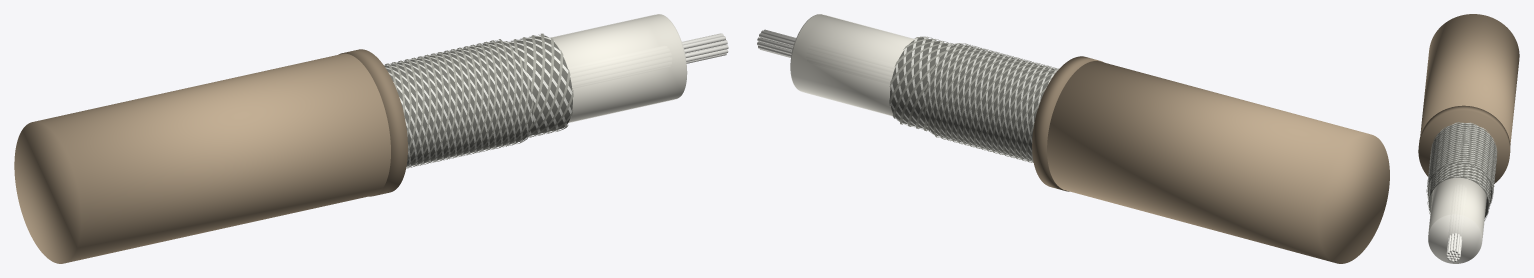
3 views of the same model, side by side, from view 1: azimuth 30°, elevation 25°; view 2: azimuth 150°, elevation 25°; view 3: azimuth 270°, elevation 25° (orthographic). The views are drawn at different scales.
Parts seen in each view (by area): view 1: matte black pvc jacket body, smooth dielectric skin, gas injected foam dielectric, braid dark diamond recess, jacket cut lip, inner braid dark diamond recess, braid left hand woven carrier 14, braid left hand woven carrier 01, braid left hand woven carrier 13, braid left hand woven carrier 12, braid left hand woven carrier 02, braid left hand woven carrier 11 (+3 smaller); view 2: matte black pvc jacket body, smooth dielectric skin, gas injected foam dielectric, braid dark diamond recess, jacket cut lip, inner braid dark diamond recess, braid left hand woven carrier 09, braid left hand woven carrier 10, braid left hand woven carrier 08, braid left hand woven carrier 11, braid left hand woven carrier 07; view 3: matte black pvc jacket body, gas injected foam dielectric, jacket cut lip, braid dark diamond recess, smooth dielectric skin, inner braid dark diamond recess, braid left hand woven carrier 12, braid left hand woven carrier 10, braid left hand woven carrier 11, braid left hand woven carrier 09, braid left hand woven carrier 08, braid left hand woven carrier 13 (+23 smaller).
Boxes of the visible parts, box(x1,y1,x2,y2) form: matte black pvc jacket body: box(14, 53, 390, 263); smooth dielectric skin: box(551, 14, 685, 122); gas injected foam dielectric: box(552, 14, 687, 122); braid dark diamond recess: box(384, 41, 532, 166); jacket cut lip: box(339, 49, 407, 196); inner braid dark diamond recess: box(509, 35, 572, 135); braid left hand woven carrier 14: box(407, 42, 516, 161); braid left hand woven carrier 01: box(406, 55, 523, 166); braid left hand woven carrier 13: box(404, 39, 509, 154); braid left hand woven carrier 12: box(398, 40, 503, 155); braid left hand woven carrier 02: box(406, 54, 529, 168); braid left hand woven carrier 11: box(391, 41, 496, 157); matte black pvc jacket body: box(1047, 61, 1389, 263); smooth dielectric skin: box(791, 14, 914, 115); gas injected foam dielectric: box(790, 14, 914, 115); braid dark diamond recess: box(924, 44, 1057, 161); jacket cut lip: box(1032, 56, 1103, 191); inner braid dark diamond recess: box(890, 37, 950, 129); braid left hand woven carrier 09: box(928, 51, 1052, 158); braid left hand woven carrier 10: box(924, 49, 1056, 156); braid left hand woven carrier 08: box(933, 52, 1046, 159); braid left hand woven carrier 11: box(924, 48, 1057, 154); braid left hand woven carrier 07: box(939, 54, 1040, 161); matte black pvc jacket body: box(1420, 14, 1519, 144); gas injected foam dielectric: box(1428, 177, 1486, 263); jacket cut lip: box(1418, 105, 1510, 183); braid dark diamond recess: box(1428, 123, 1495, 203); smooth dielectric skin: box(1428, 178, 1486, 237); inner braid dark diamond recess: box(1429, 163, 1490, 217); braid left hand woven carrier 12: box(1427, 130, 1495, 182); braid left hand woven carrier 10: box(1428, 126, 1496, 192); braid left hand woven carrier 11: box(1428, 128, 1495, 184); braid left hand woven carrier 09: box(1428, 124, 1496, 205); braid left hand woven carrier 08: box(1428, 122, 1496, 203); braid left hand woven carrier 13: box(1429, 132, 1495, 176).
Size of the model in its own units: 6.53 by 1.25 by 1.38.
